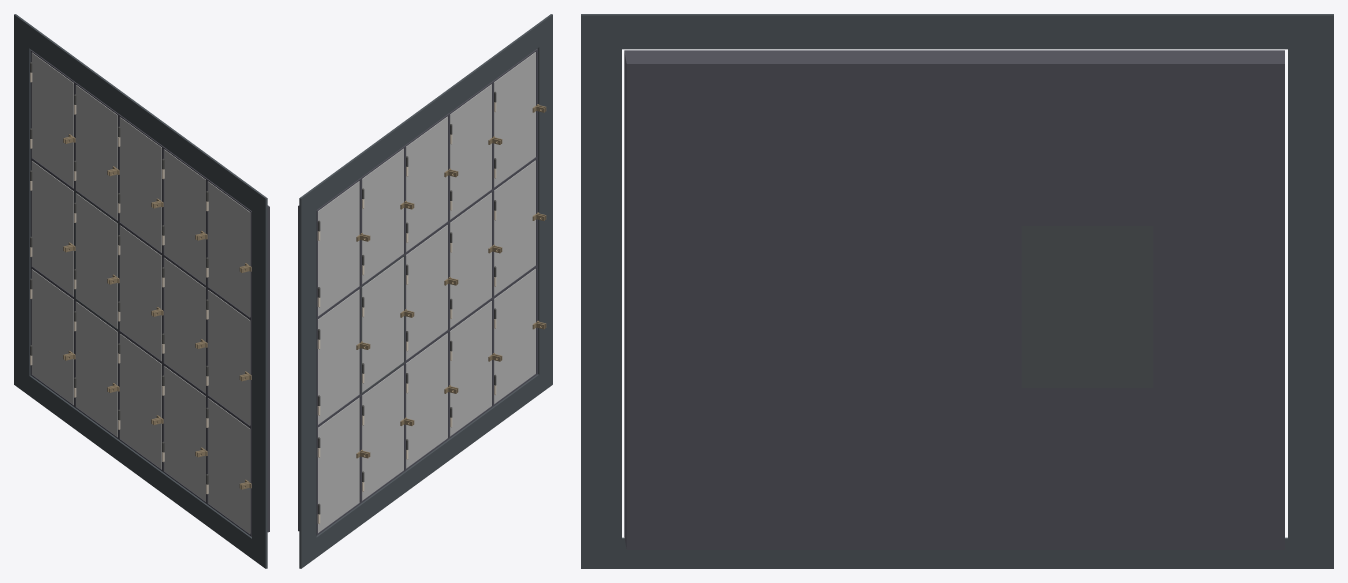
File: LOCKER COLEGIO.fbx
3 renders of one model, left to right at view 1: azimuth 30°, elevation 25°; view 2: azimuth 150°, elevation 25°; view 3: azimuth 270°, elevation 25°, orthographic. The views are drawn at different scales.
Parts seen in each view (by area): view 1: LOCKER; view 2: LOCKER; view 3: LOCKER.
Boxes of the visible parts, bbox=[...] form: LOCKER: bbox=[14, 14, 269, 568]; LOCKER: bbox=[298, 14, 552, 568]; LOCKER: bbox=[581, 14, 1333, 568].
Size of the model in its own units: 162 by 2025 by 2496.
